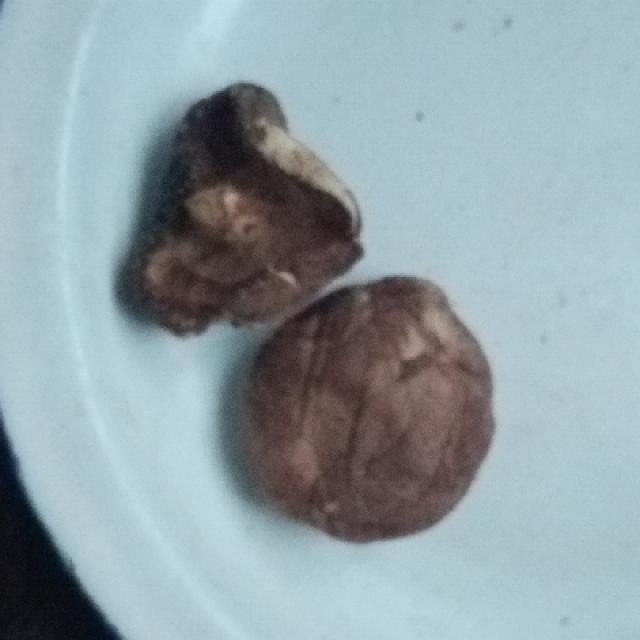Lentinus edodes: (252, 278, 495, 543), (131, 80, 366, 336)
